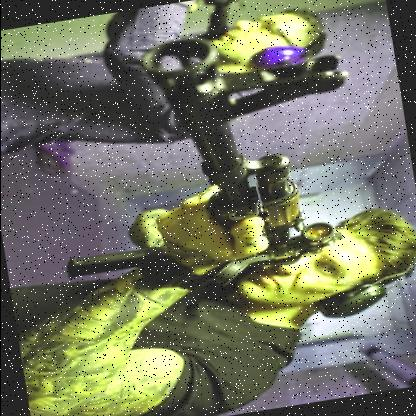rifle: (30, 19, 353, 307)
